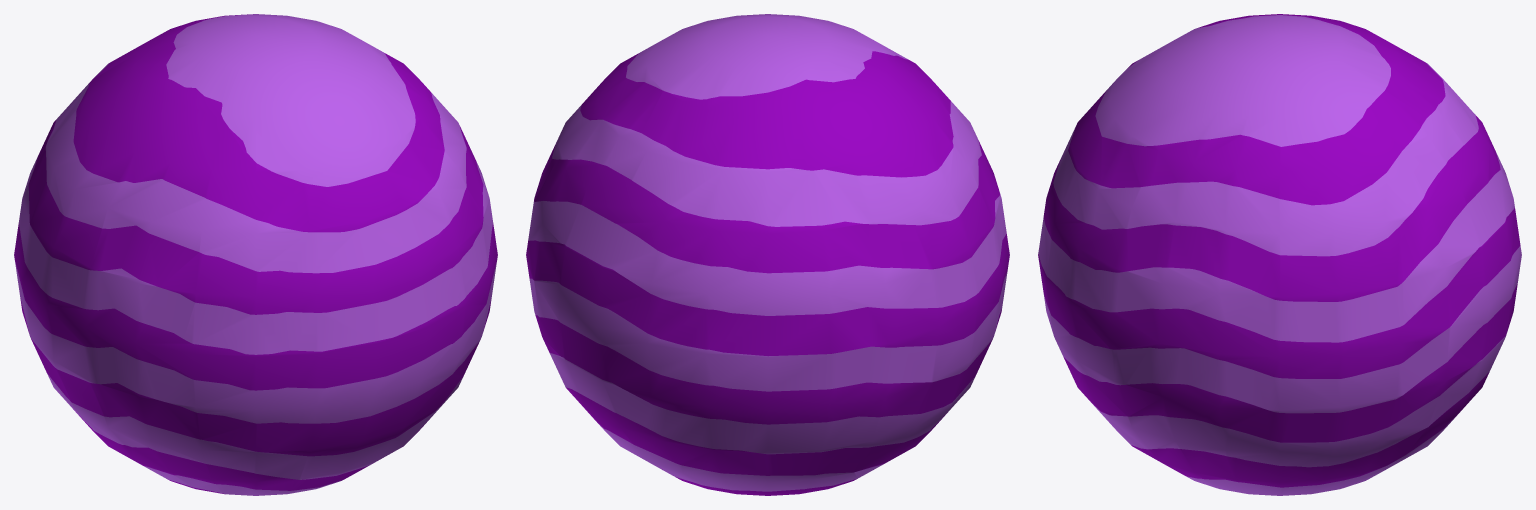
File: Stripes - violet.fbx
The picture shows the model from 3 angles, left to right: view 1: azimuth 30°, elevation 25°; view 2: azimuth 150°, elevation 25°; view 3: azimuth 270°, elevation 25°; orthographic projection.
Visible parts, largest first — view 1: SketchUp.001; view 2: SketchUp.001; view 3: SketchUp.001.
Boxes of the visible parts, <box> form: SketchUp.001: <box>14,14,497,495</box>; SketchUp.001: <box>526,14,1009,495</box>; SketchUp.001: <box>1038,14,1521,495</box>.
Size of the model in its own units: 100 by 100 by 100.
